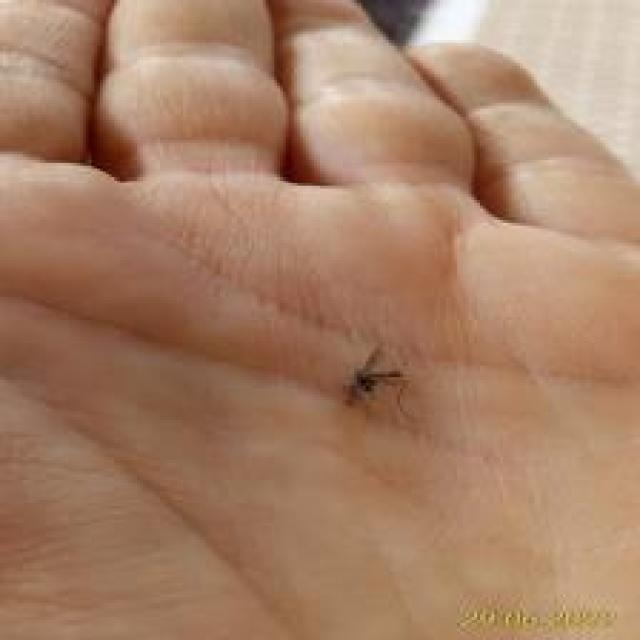Aedes albopictus: (341, 344, 410, 410)
